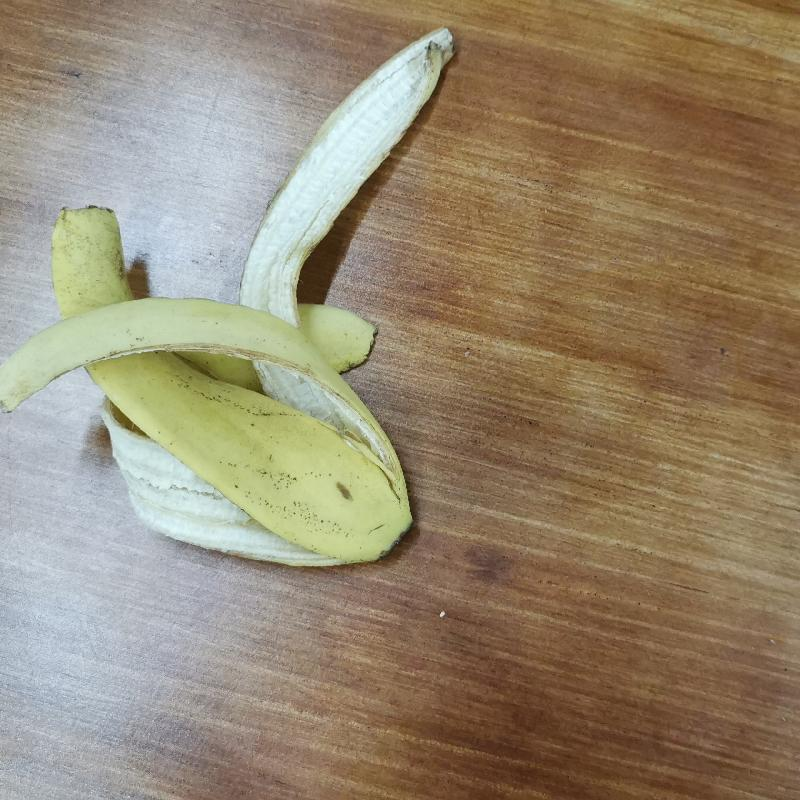bananas: (0, 28, 473, 577)
